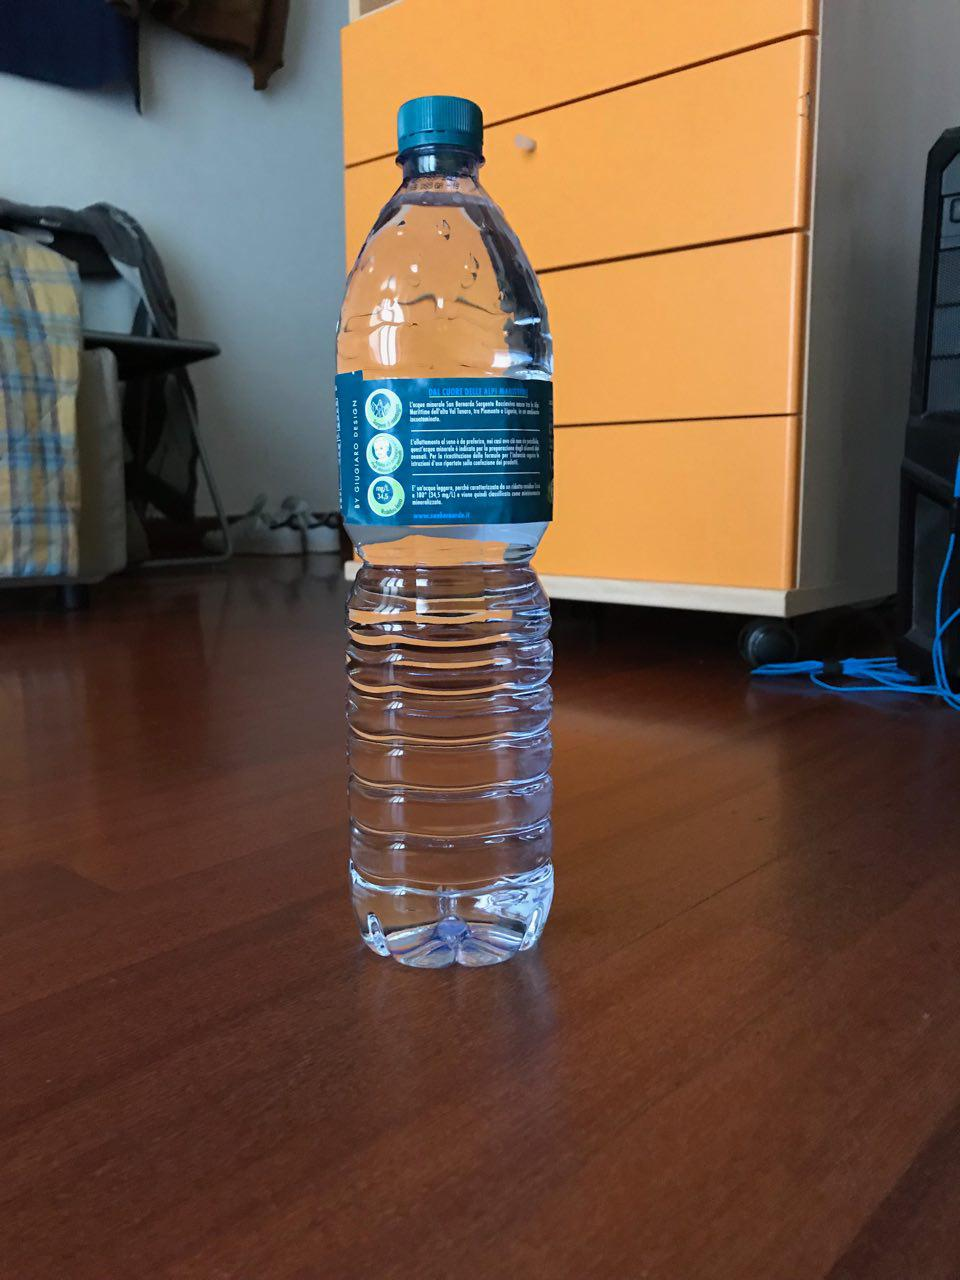san_bernardo: (332, 94, 556, 973)
